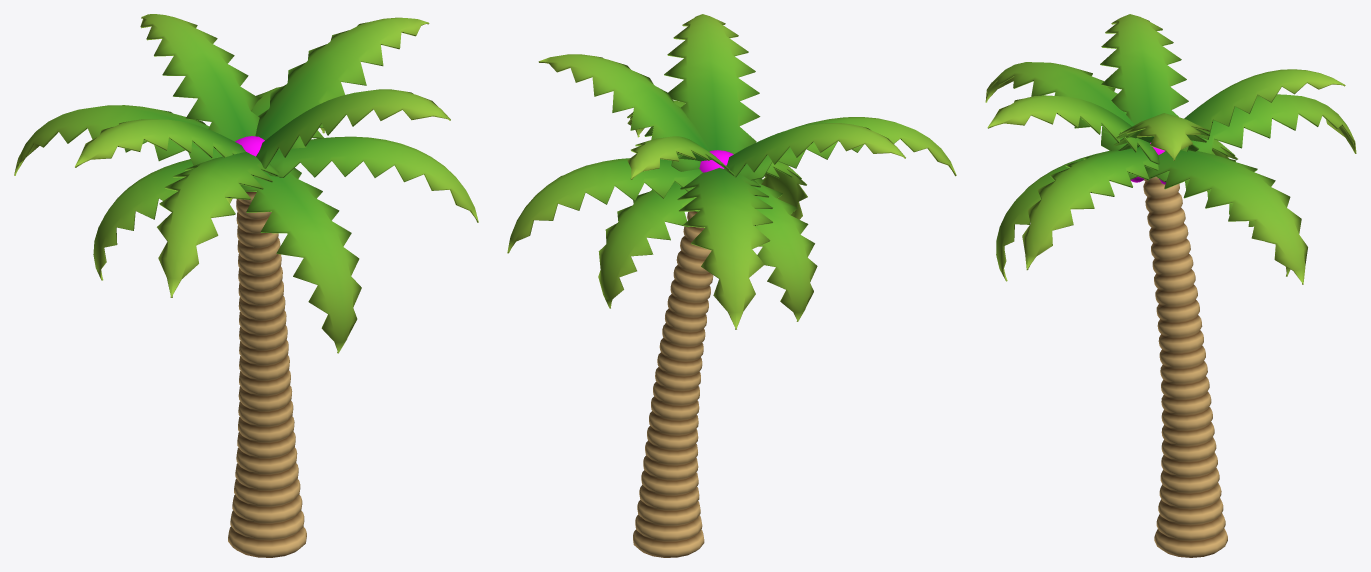
Rendered from palm_c.glb.
The picture shows the model from 3 angles, left to right: view 1: azimuth 30°, elevation 25°; view 2: azimuth 150°, elevation 25°; view 3: azimuth 270°, elevation 25°; orthographic projection. The views are drawn at different scales.
Visible parts, largest first — view 1: palm_c; view 2: palm_c; view 3: palm_c.
Part boxes in pixels (x1,y1,x2,y2): palm_c: [14, 14, 478, 557]; palm_c: [507, 14, 956, 557]; palm_c: [985, 14, 1356, 557].
Size of the model in its own units: 4.7 by 5.96 by 4.29.
